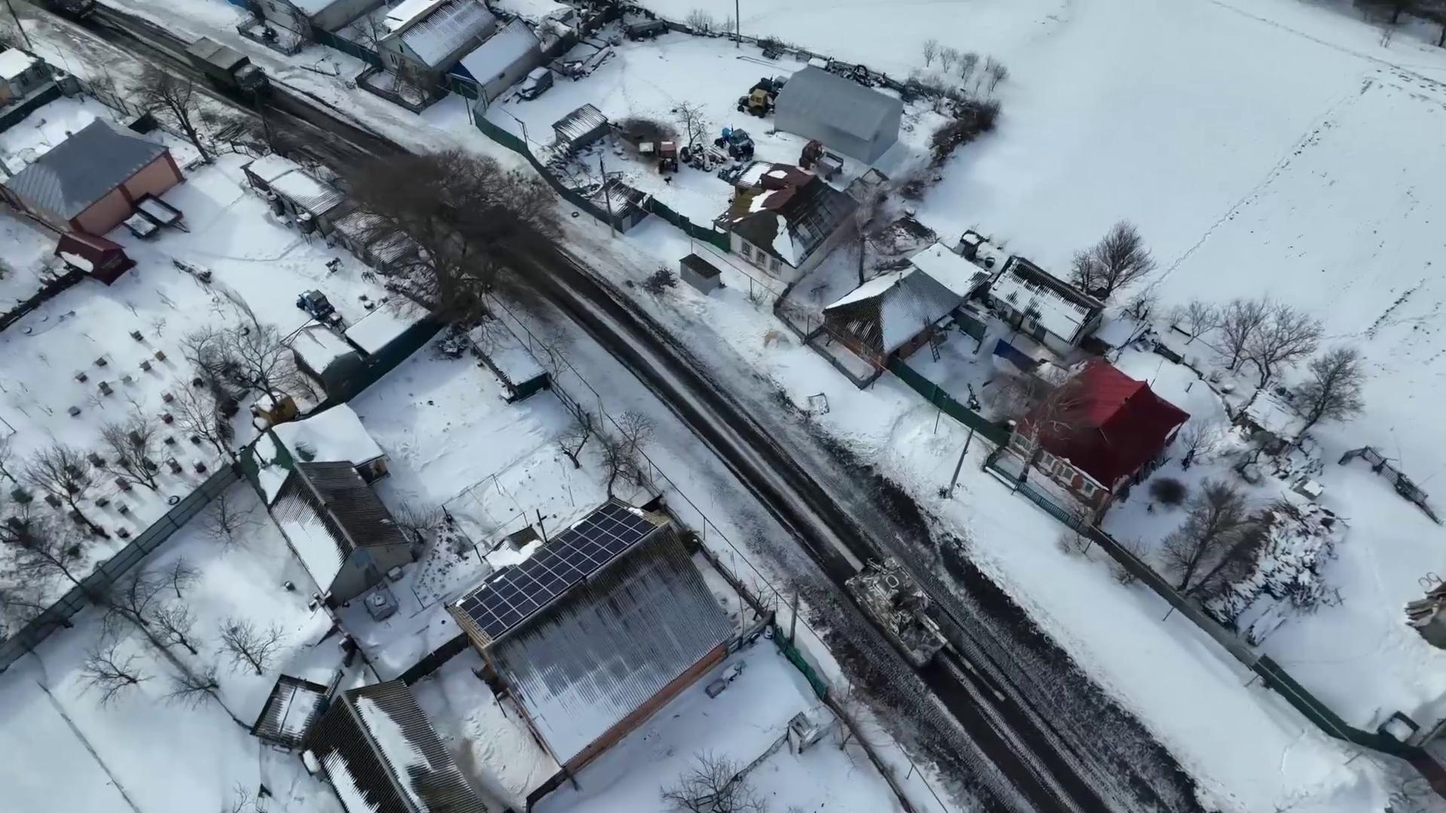sau: (844, 554, 1007, 702)
truck: (184, 36, 270, 97), (27, 0, 109, 23)
